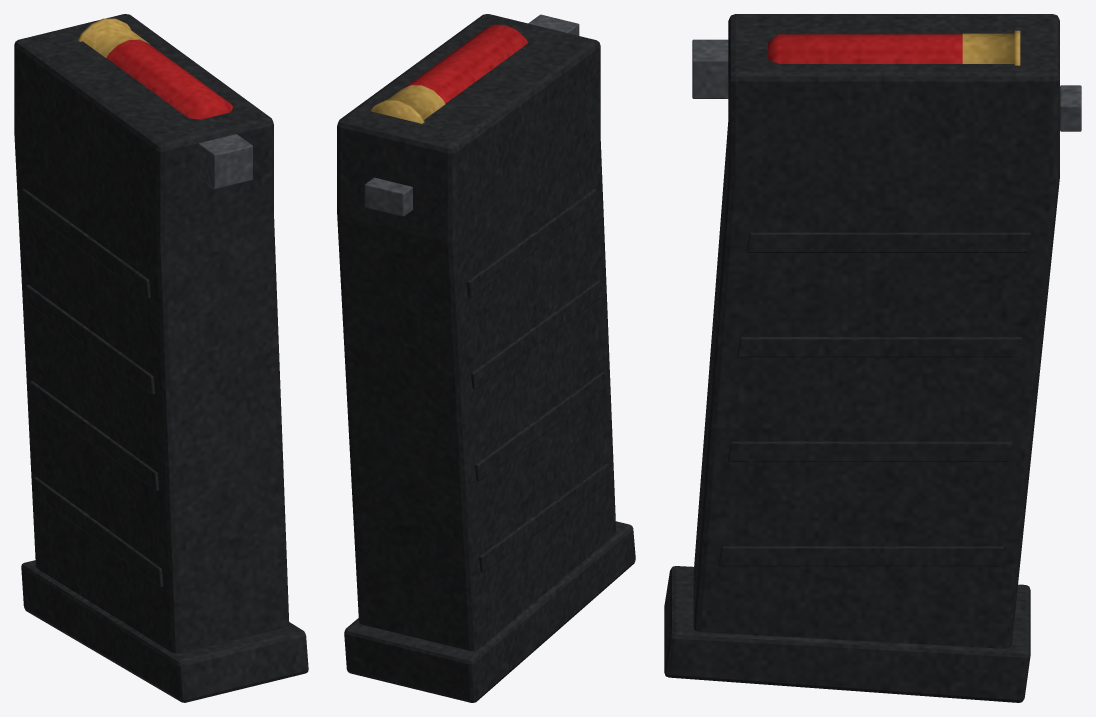
File: mag_saiga12.glb
The picture shows the model from 3 angles, left to right: view 1: azimuth 30°, elevation 25°; view 2: azimuth 150°, elevation 25°; view 3: azimuth 270°, elevation 25°; orthographic projection. The views are drawn at different scales.
Parts seen in each view (by area): view 1: mag_saiga12; view 2: mag_saiga12; view 3: mag_saiga12.
Part boxes in pixels (x1=…): mag_saiga12: x1=14, y1=14, x2=308, y2=702; mag_saiga12: x1=337, y1=14, x2=635, y2=702; mag_saiga12: x1=664, y1=14, x2=1081, y2=702.
Size of the model in its own units: 0.046 by 0.1971 by 0.1158.
4 materials, 4 textured.
